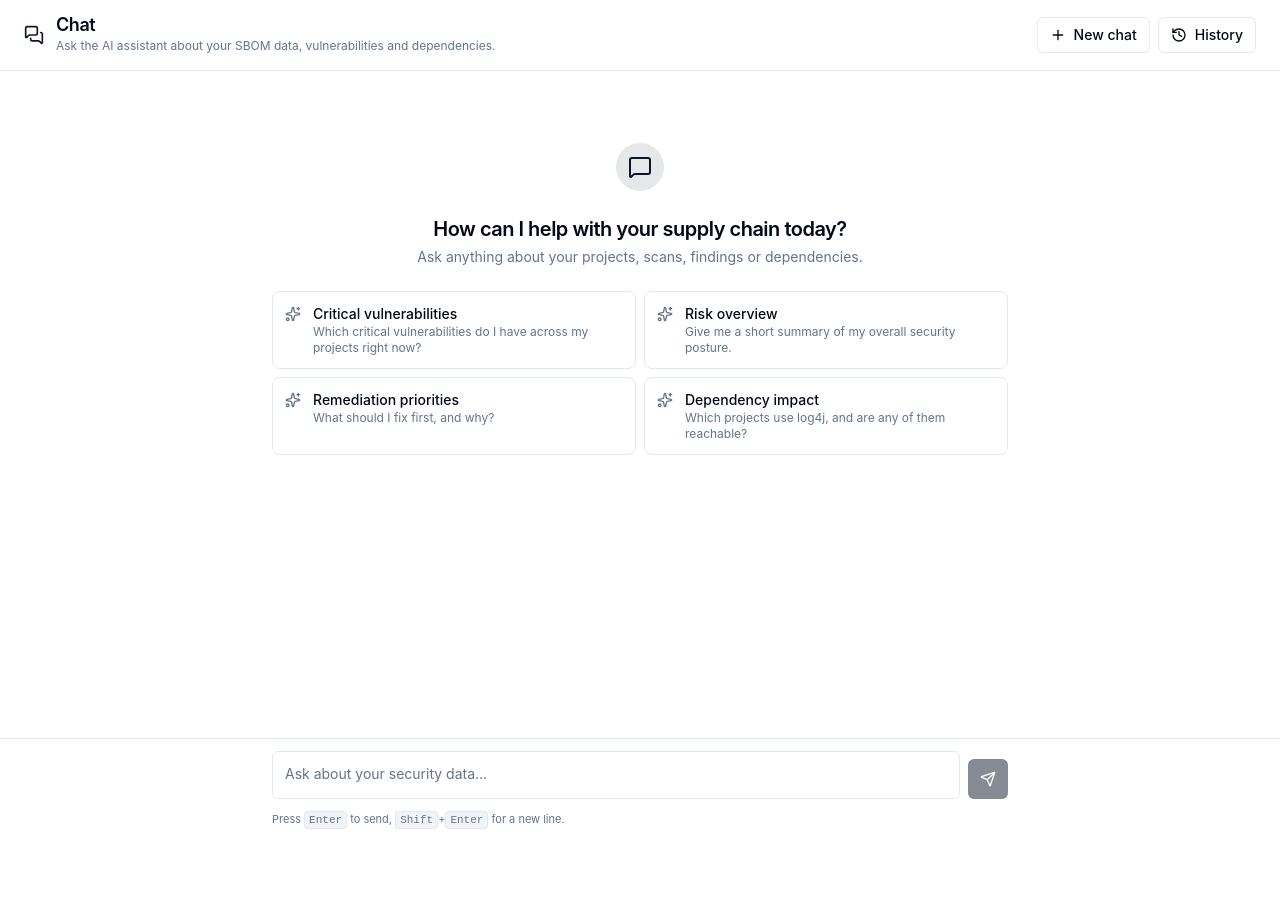
it: Chat turn after the stream ends › refetches after an error event and shows the stored turn
Step 1. Click the button "History" → click(1207, 35), box 1158,17 -> 1256,53
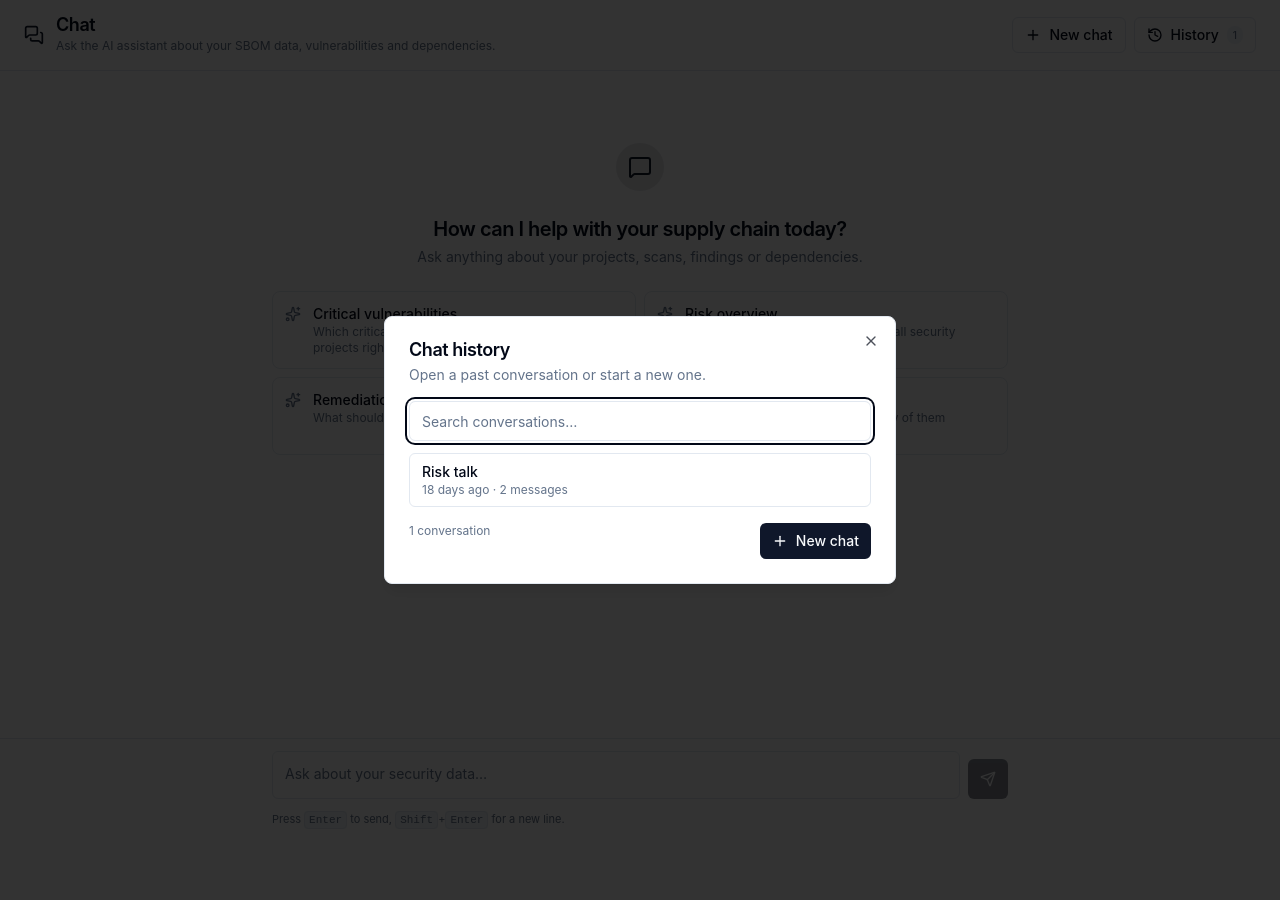
Step 2. Click the text "Risk talk" → click(450, 472), box 422,463 -> 478,480
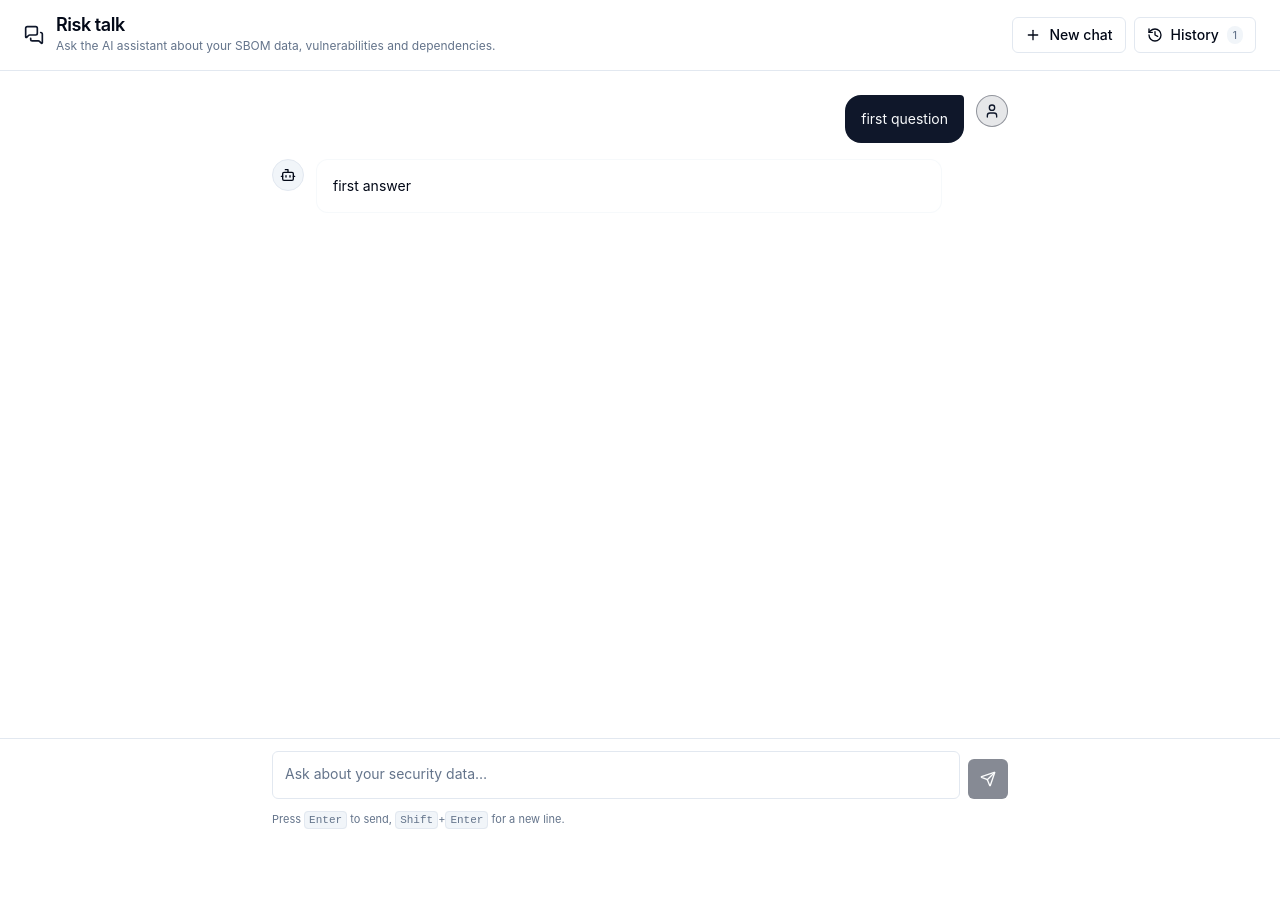
Expected: the text "first answer" is shown, 333,177 -> 411,194
Step 3. Type "second question" into the text box with placeholder "Ask about your security data…" → (616, 774), box 272,750 -> 960,798
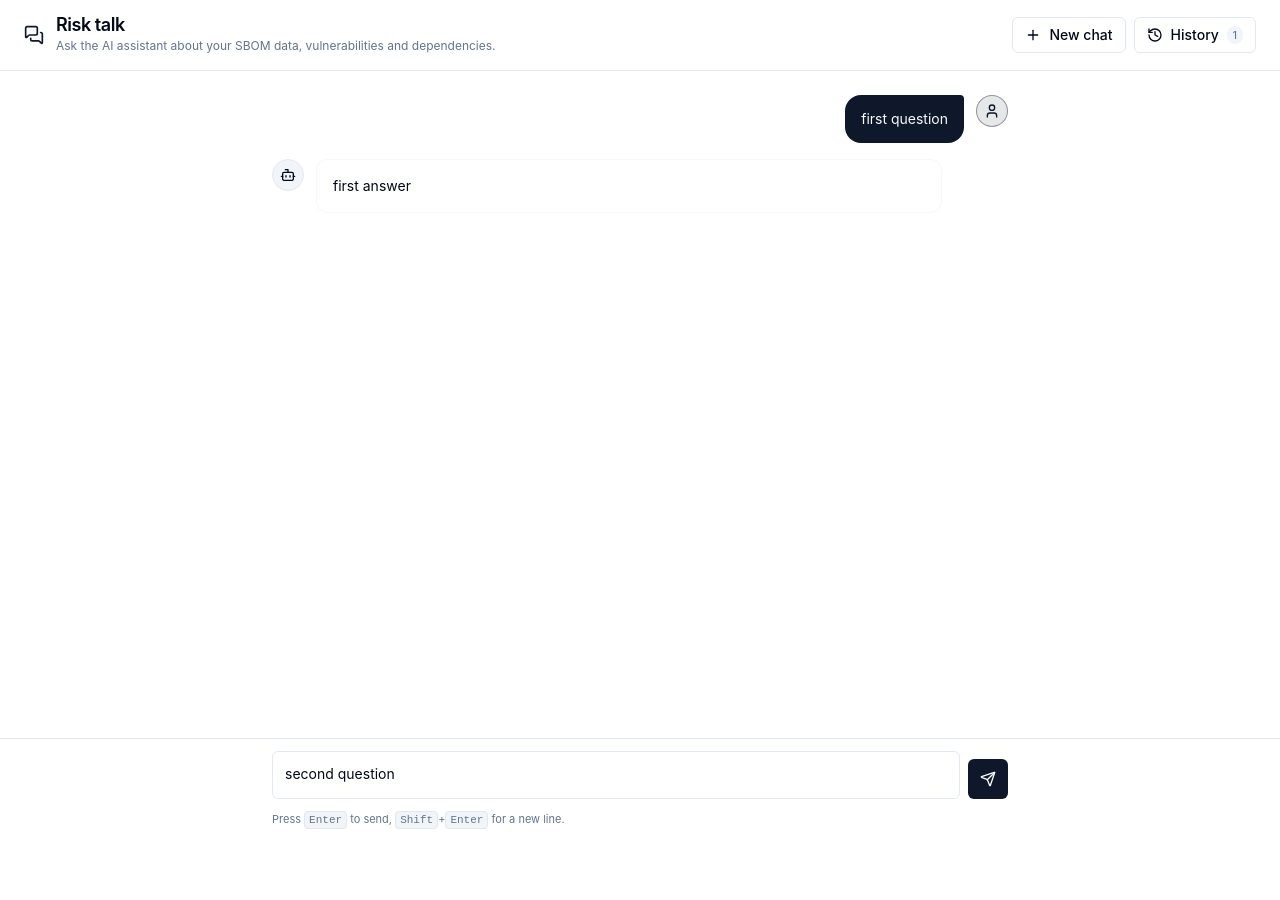
Step 4. Click the button named "Send message" → click(988, 778), box 968,758 -> 1008,798
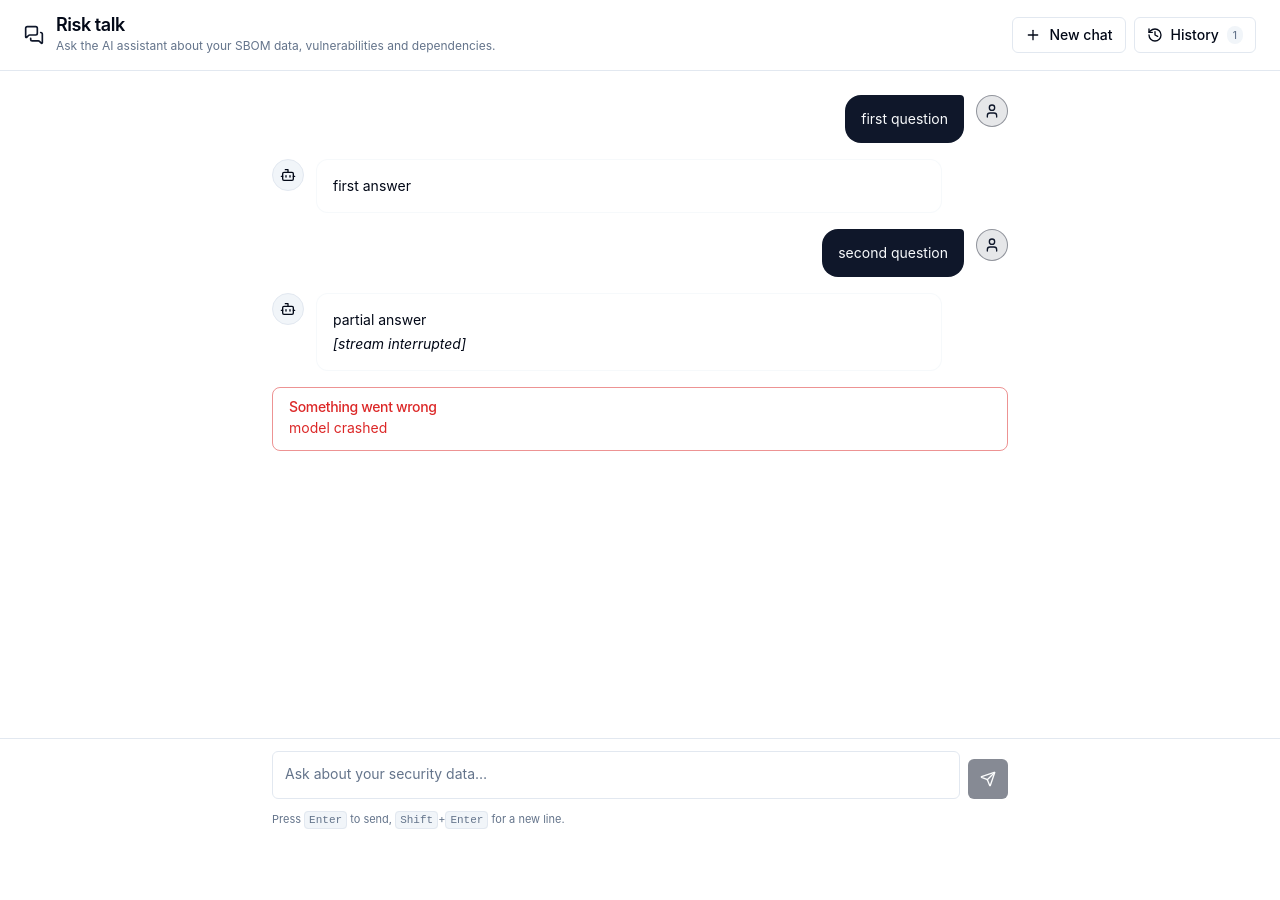
Expected: the text "[stream interrupted]" is shown, 333,335 -> 466,352
Expected: the text "second question" is shown, 838,243 -> 948,263
Expected: the text "model crashed" is shown, 289,419 -> 387,436
